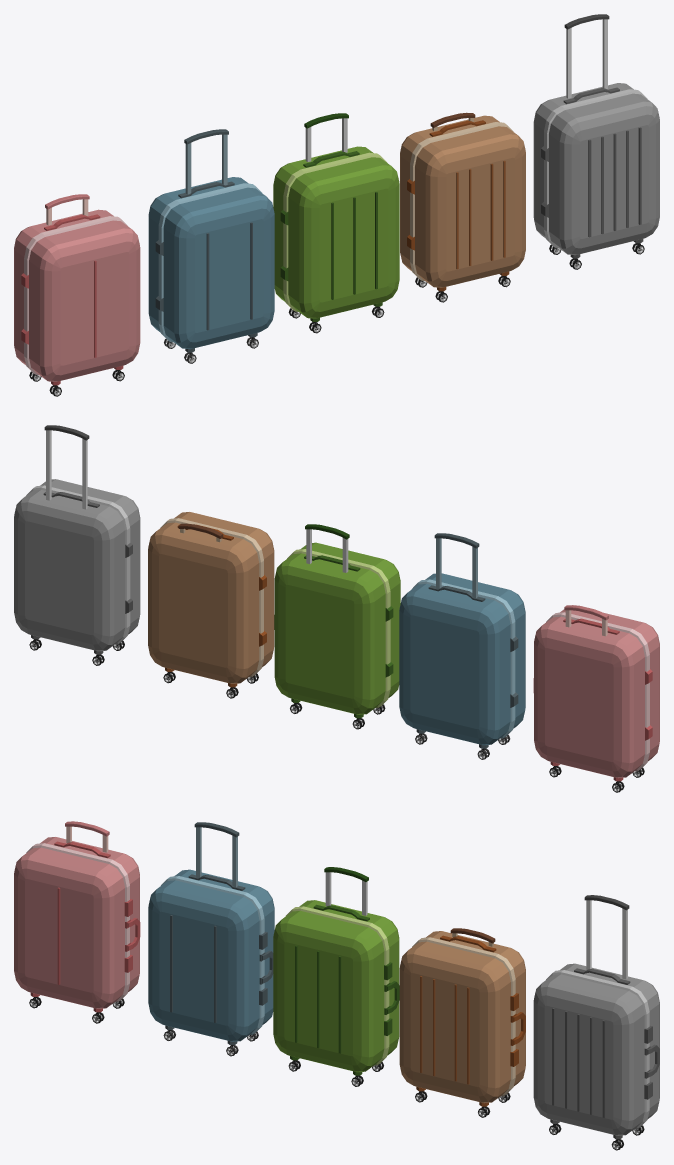
File: stylized_suitcase.glb
3 renders of one model, top to bottom at view 1: azimuth 30°, elevation 25°; view 2: azimuth 150°, elevation 25°; view 3: azimuth 330°, elevation 25°, orthographic.
Parts seen in each view (by area): view 1: Koper 5, Koper 4, Koper 3, Koper 2, Koper 1; view 2: Koper 5, Koper 4, Koper 3, Koper 1, Koper 2; view 3: Koper 5, Koper 4, Koper 3, Koper 2, Koper 1.
Part boxes in pixels (box(x1,y1,x2,y2)): Koper 5: box(533, 14, 659, 269); Koper 4: box(148, 129, 274, 363); Koper 3: box(273, 113, 399, 333); Koper 2: box(14, 194, 140, 396); Koper 1: box(400, 112, 525, 302); Koper 5: box(14, 425, 140, 665); Koper 4: box(399, 533, 525, 759); Koper 3: box(274, 524, 400, 729); Koper 1: box(148, 512, 274, 698); Koper 2: box(533, 605, 659, 792); Koper 5: box(533, 895, 659, 1150); Koper 4: box(148, 822, 274, 1056); Koper 3: box(273, 867, 399, 1086); Koper 2: box(14, 821, 140, 1023); Koper 1: box(399, 928, 525, 1117).
Bounding box in the file's own units: 3.75 × 1.3 × 0.3755.
Materials: 1 (1 with a texture image).
